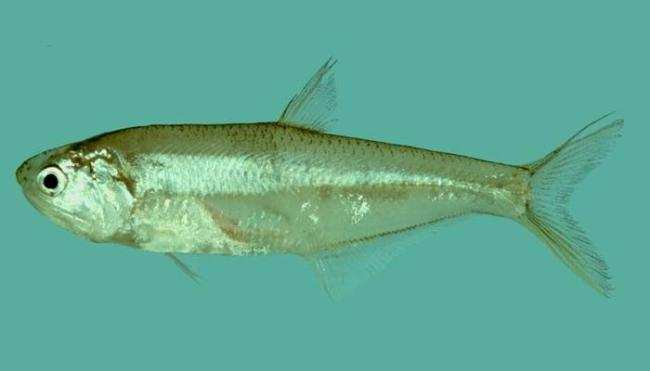fish: (15, 55, 625, 300)
